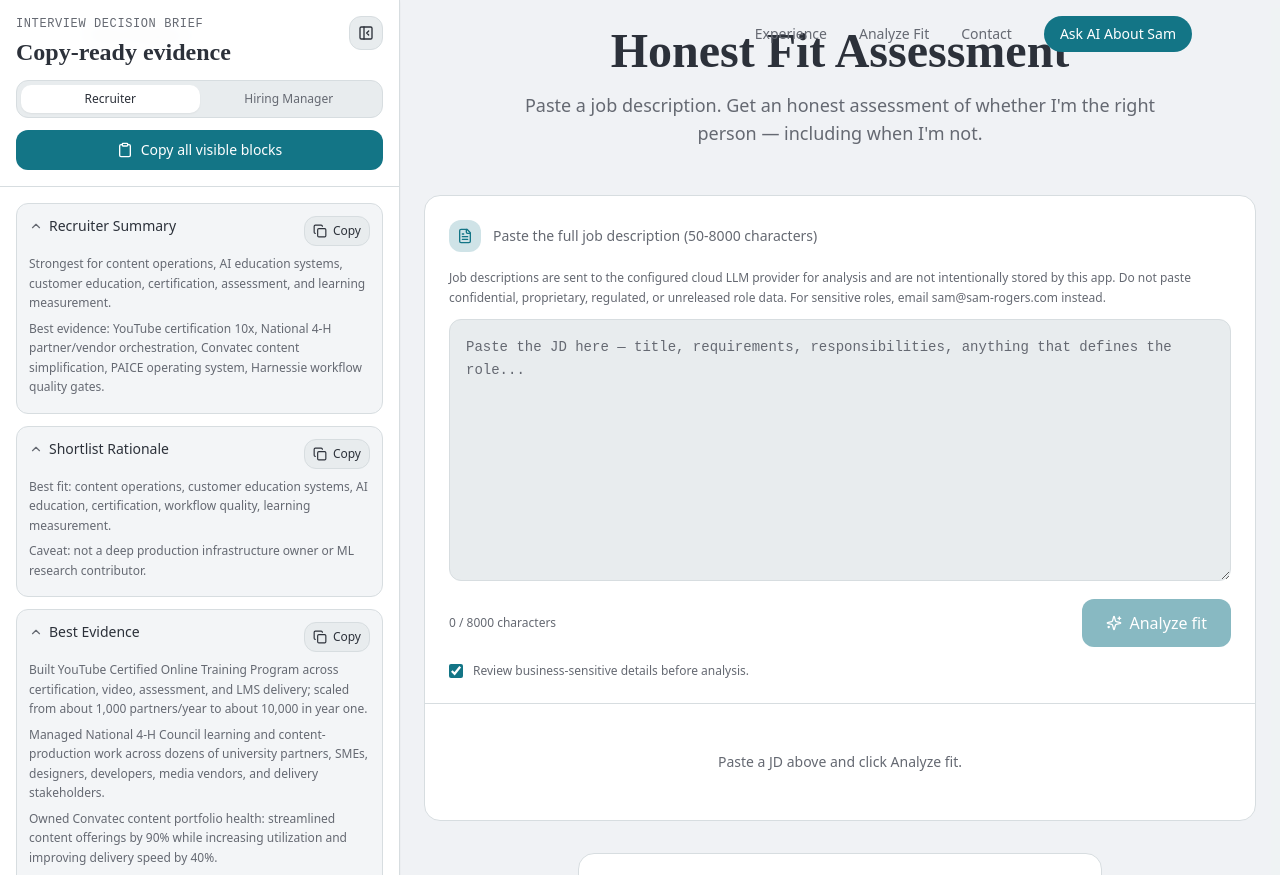
Test case: Index Interview Decision Brief integration › clears JD-tailored sidebar blocks when the JD is edited after analysis
(page scrolled)
Replace the text in the text box named "Job description" with "We need a senior leader to build certification architecture, governance enablement, and cross-functional AI adoption measurement across teams." at [840, 450], box [449, 319, 1231, 581]
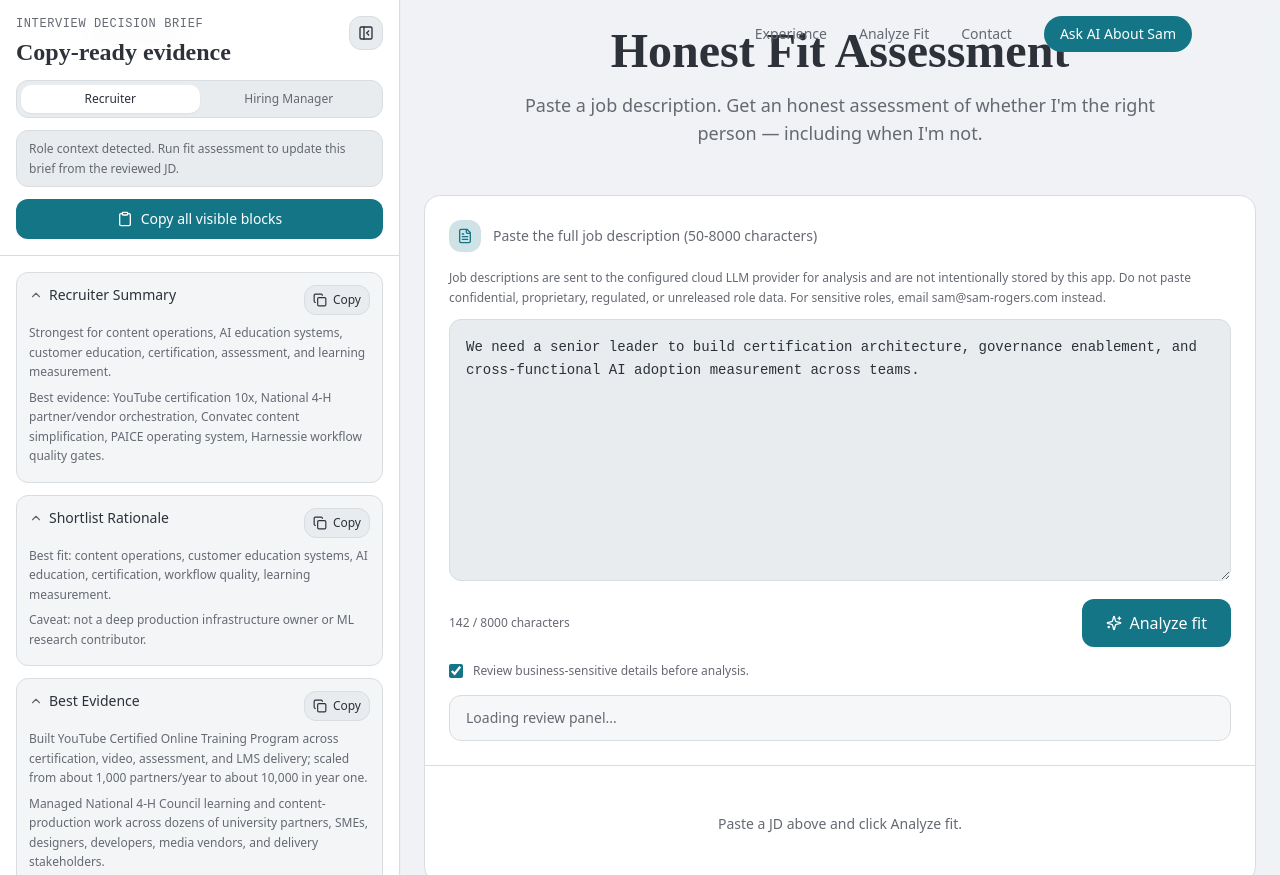
Now the text "Role context detected" is shown, box [29, 140, 346, 176]
Click the button "Analyze fit" at [1156, 623], box [1082, 599, 1231, 647]
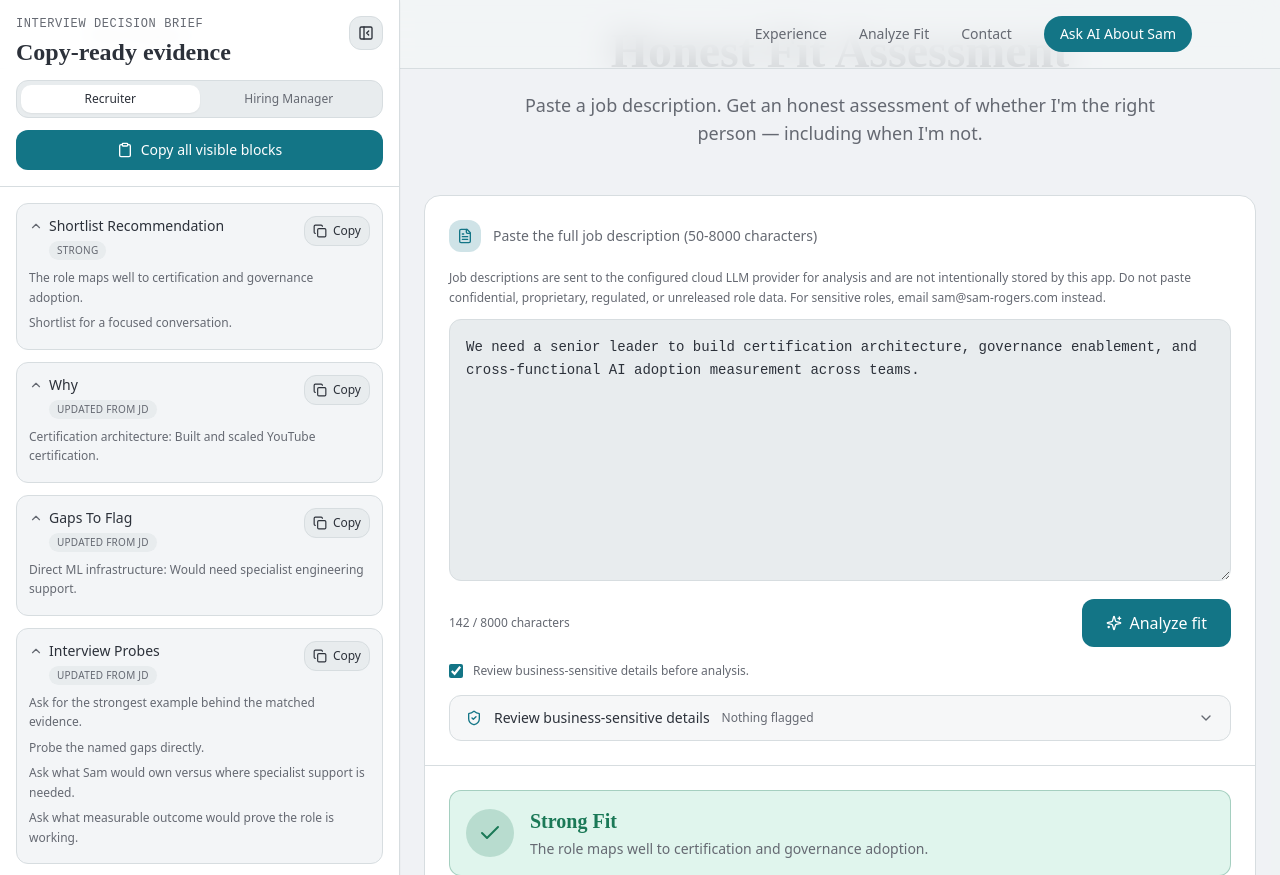
Now the text "Shortlist Recommendation" is shown, box [49, 216, 224, 236]
Now the list item "Certification architecture: Built and scaled YouTube certification." is shown, box [29, 428, 316, 464]
Replace the text in the text box named "Job description" with "We now need a different senior leader focused on learning systems, capability measurement, and regulated AI adoption across business functions." at [840, 450], box [449, 319, 1231, 581]
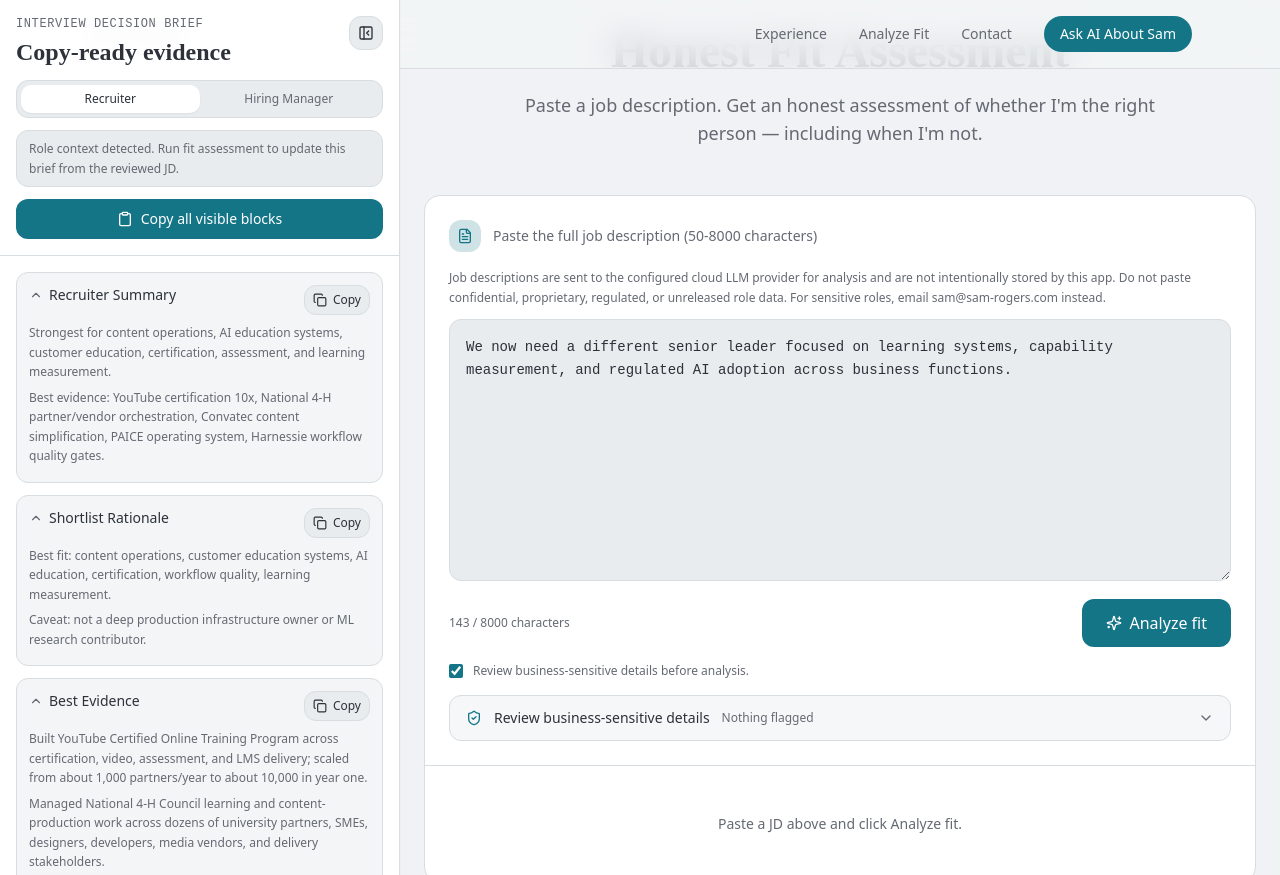
Now the button "Shortlist Recommendation" is gone
Now the list item "Certification architecture: Built and scaled YouTube certification." is gone
Now the text "Recruiter Summary" is shown, box [49, 285, 176, 305]
